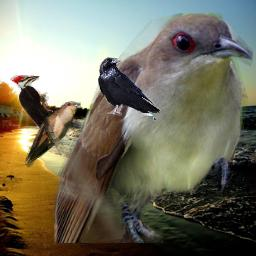Crow: (98, 57, 161, 121)
Cuckoo: (54, 13, 253, 243), (23, 101, 81, 169)
Woodpecker: (10, 75, 81, 136)
